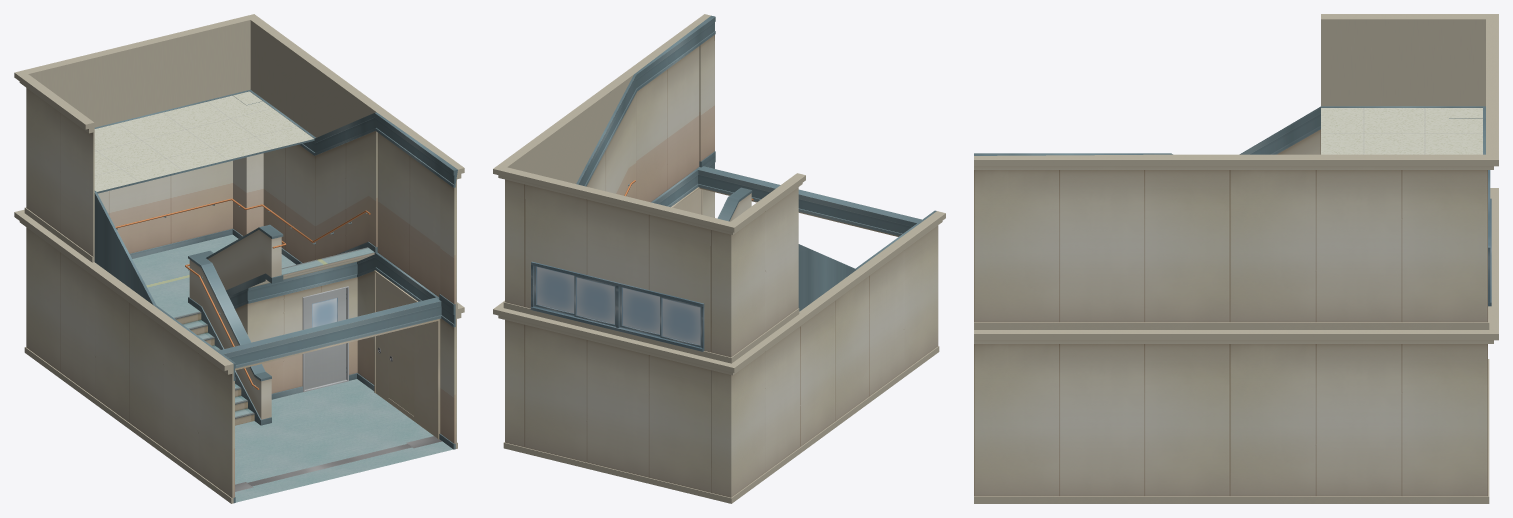
Rendered from SHW_Stairs_01_04.fbx.
The picture shows the model from 3 angles, left to right: view 1: azimuth 30°, elevation 25°; view 2: azimuth 150°, elevation 25°; view 3: azimuth 270°, elevation 25°; orthographic projection. The views are drawn at different scales.
Visible parts, largest first — view 1: wall_01, floor_01, ceiling_01, door_R, fire_door_01, door01, door2_R, handrail_01, glass_02, door_frame01; view 2: wall_01, glass02 (×4), window; view 3: wall_01, ceiling_01.
Boxes of the visible parts, x1=… form: wall_01: x1=14, y1=14, x2=464, y2=503; floor_01: x1=235, y1=379, x2=453, y2=502; ceiling_01: x1=94, y1=91, x2=313, y2=191; door_R: x1=375, y1=273, x2=437, y2=438; fire_door_01: x1=235, y1=270, x2=441, y2=491; door01: x1=304, y1=288, x2=346, y2=389; door2_R: x1=388, y1=305, x2=414, y2=416; handrail_01: x1=115, y1=198, x2=370, y2=389; glass_02: x1=312, y1=297, x2=337, y2=327; door_frame01: x1=302, y1=286, x2=348, y2=392; wall_01: x1=493, y1=14, x2=945, y2=503; glass02 (×4): x1=536, y1=266, x2=700, y2=345; window: x1=530, y1=261, x2=704, y2=351; wall_01: x1=974, y1=14, x2=1498, y2=503; ceiling_01: x1=1321, y1=108, x2=1482, y2=154.
Size of the model in its own units: 540 by 604 by 820.
